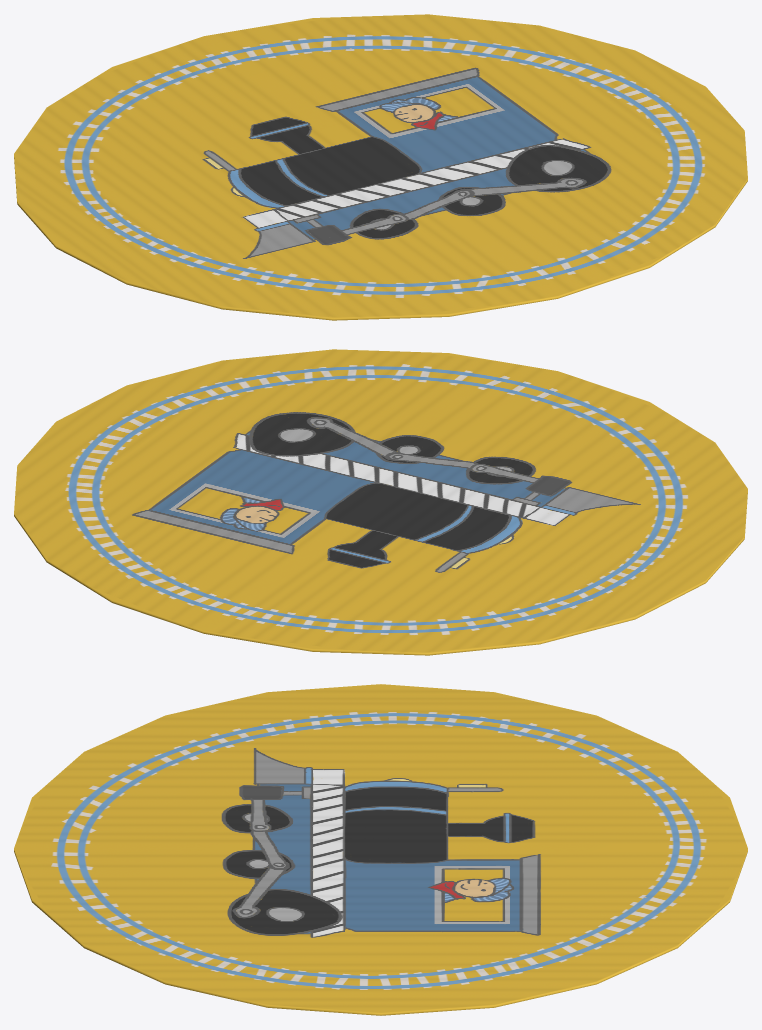
Rendered from prop_carpet.fbx.
The picture shows the model from 3 angles, top to bottom: view 1: azimuth 30°, elevation 25°; view 2: azimuth 150°, elevation 25°; view 3: azimuth 270°, elevation 25°; orthographic projection. The views are drawn at different scales.
Parts seen in each view (by area): view 1: prop_carpet; view 2: prop_carpet; view 3: prop_carpet.
Part boxes in pixels (x1=…): prop_carpet: x1=14, y1=14, x2=747, y2=320; prop_carpet: x1=14, y1=349, x2=747, y2=655; prop_carpet: x1=14, y1=684, x2=747, y2=1015.
Size of the model in its own units: 1587 by 7.46 by 1499.
